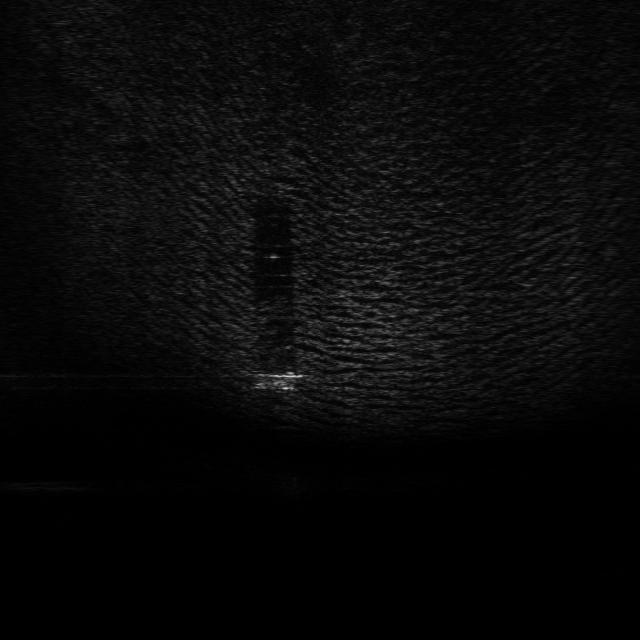cube: (246, 368, 300, 396)
